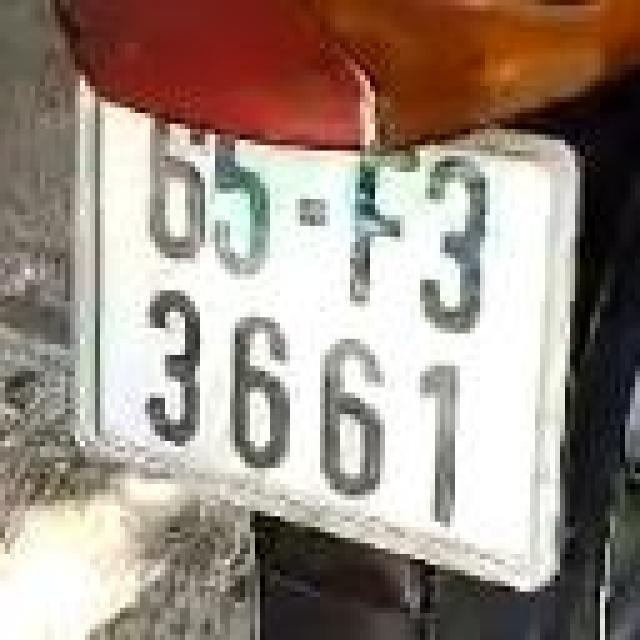1: (408, 344, 482, 538)
3: (418, 142, 502, 342), (138, 285, 218, 457)
5: (215, 116, 290, 282)
6: (312, 331, 392, 503), (220, 312, 300, 479), (142, 102, 212, 264)
F: (338, 126, 422, 314)
